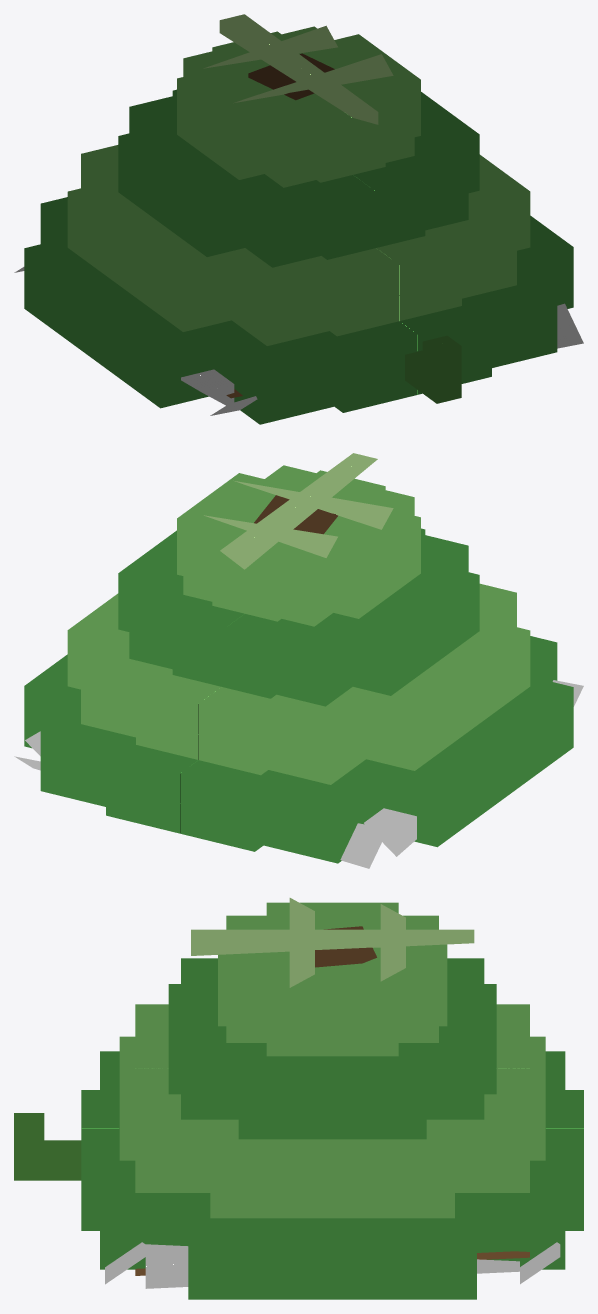
Rendered from rival-pile-blocky_lod1.glb.
3 renders of one model, top to bottom at view 1: azimuth 30°, elevation 25°; view 2: azimuth 150°, elevation 25°; view 3: azimuth 270°, elevation 25°, orthographic. The views are drawn at different scales.
Visible parts, largest first — view 1: leaf-cover, pile-100, pile-75, pile-50; view 2: leaf-cover, pile-100, pile-75; view 3: leaf-cover, pile-75, pile-100, pile-25.
Boxes of the visible parts, x1,y1,x2,y2 form: leaf-cover: (24, 14, 573, 424); pile-100: (14, 53, 578, 415); pile-75: (181, 310, 580, 405); pile-50: (19, 267, 256, 413); leaf-cover: (24, 453, 573, 863); pile-100: (16, 495, 583, 866); pile-75: (30, 691, 580, 863); leaf-cover: (14, 898, 583, 1299); pile-75: (107, 1246, 553, 1284); pile-100: (136, 926, 560, 1288); pile-25: (105, 1251, 529, 1288).
Bounding box in the file's own units: 1 × 0.56 × 1.13.
